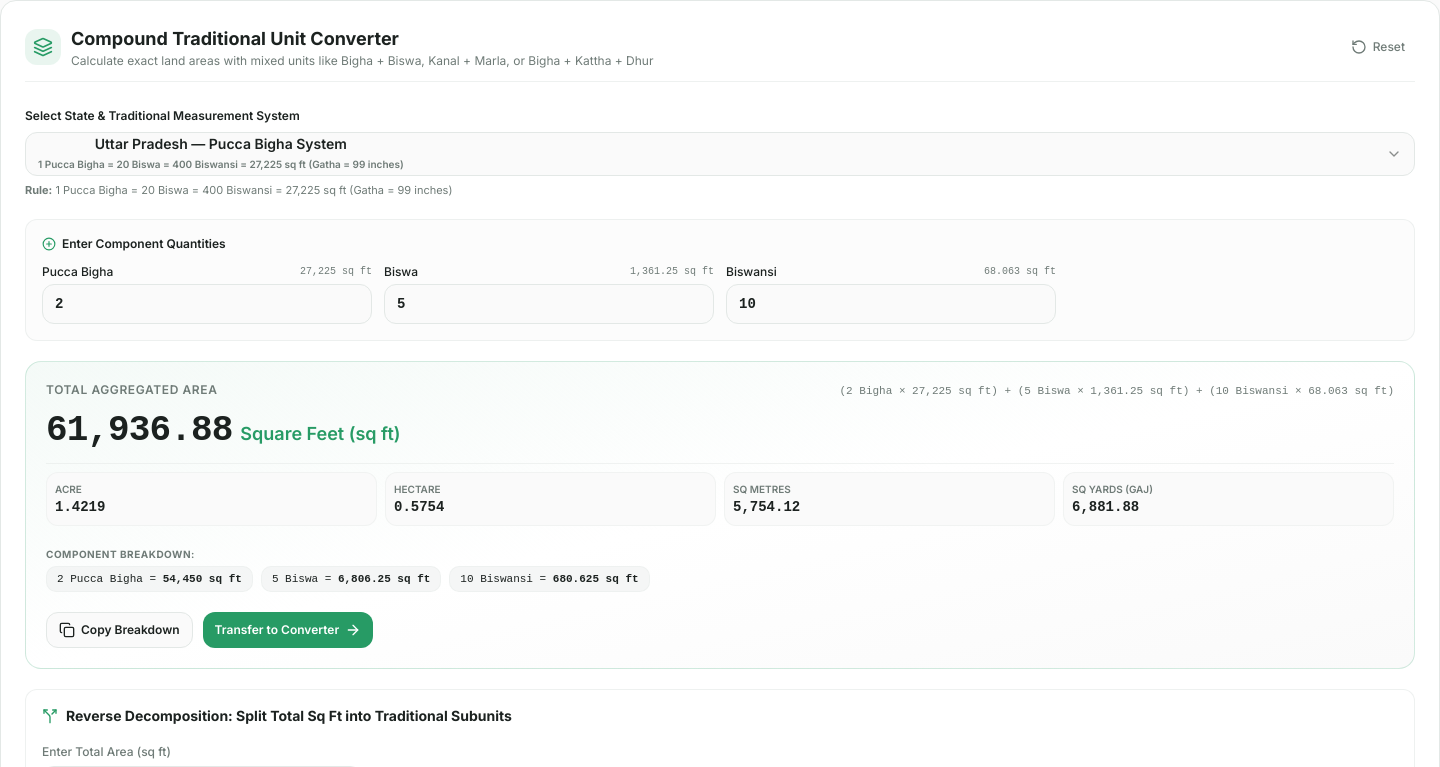
Test case: PR #2 Pre-Merge Remediation Suite › Compound Quantity Validation & TypeScript Integrity (COMPOUND-001 - COMPOUND-019, TYPE-001 - TYPE-002) › COMPOUND-014: Invalid inputs cannot transfer to main converter
Later steps or results of the test are not shown.
Replace the text in the field labelled "Pucca Bigha" with "20.000.50": (207, 304) 42,284 -> 372,324
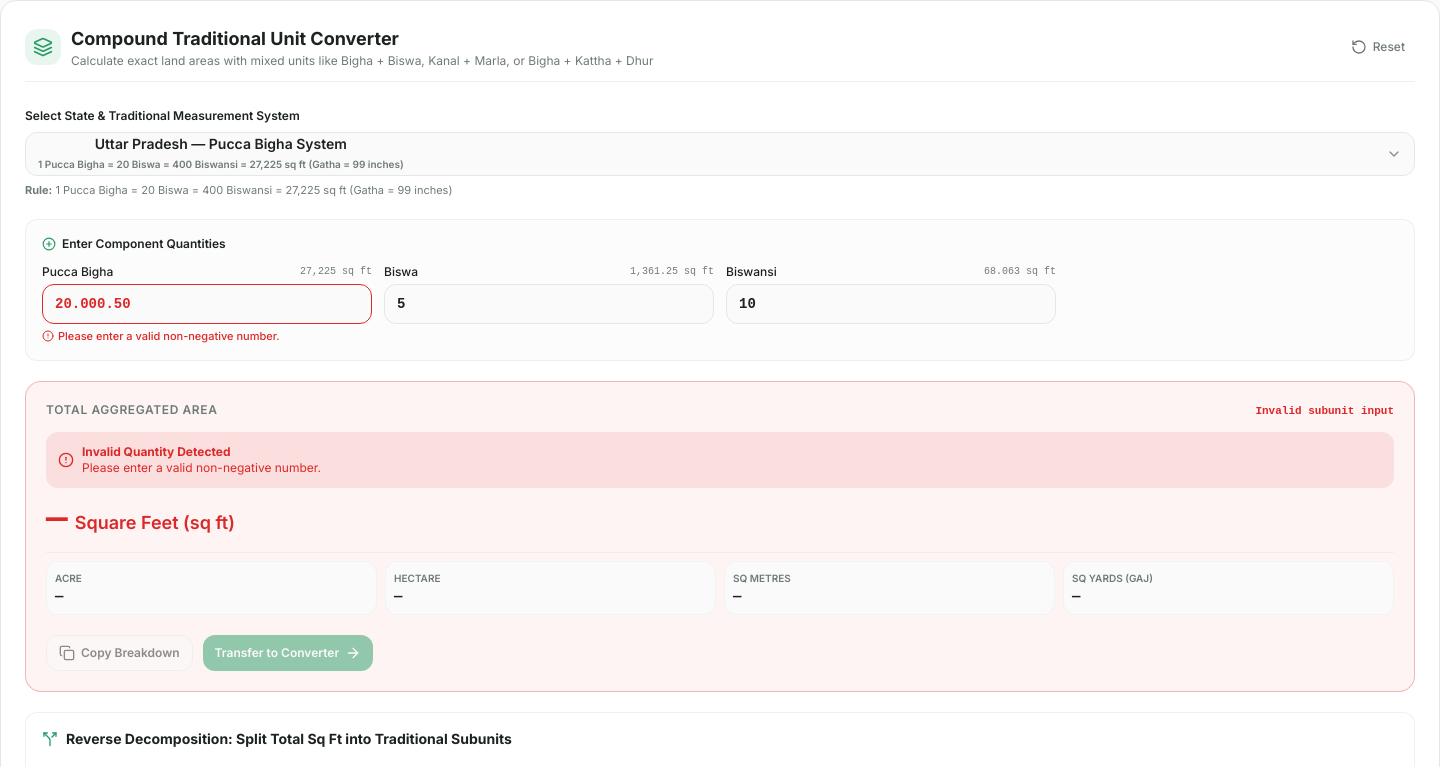
Result: the button "Transfer to Converter" is disabled at 203,634 -> 373,670
